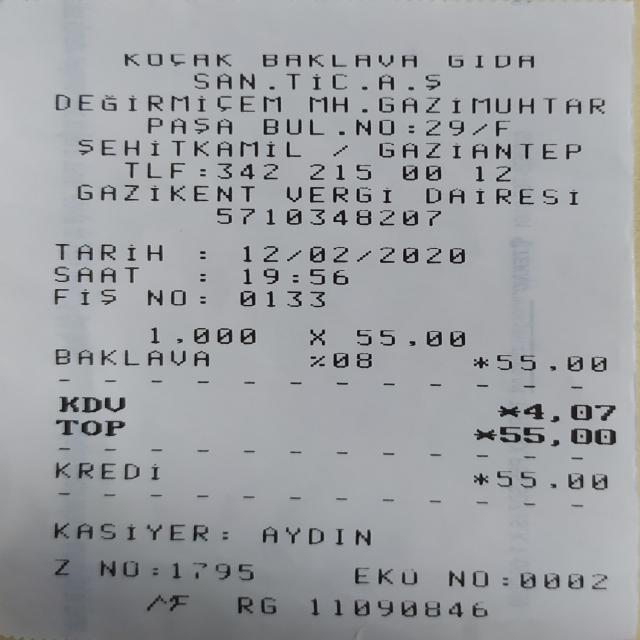text: (55, 91, 280, 116), (244, 242, 464, 267), (78, 136, 300, 160), (193, 70, 440, 90), (217, 206, 439, 227), (379, 139, 580, 162), (304, 93, 470, 117), (309, 597, 488, 619), (55, 346, 208, 369), (54, 520, 208, 542), (466, 94, 605, 118), (262, 50, 416, 70), (424, 183, 556, 206), (263, 520, 369, 548), (264, 116, 394, 136), (496, 351, 604, 375), (55, 240, 162, 264), (500, 424, 614, 446), (242, 264, 346, 288), (150, 323, 254, 347), (356, 326, 464, 349), (150, 180, 253, 204), (172, 556, 251, 586), (287, 182, 389, 205), (56, 459, 158, 481), (497, 470, 606, 489), (125, 50, 230, 69), (240, 287, 324, 310), (524, 401, 614, 422), (55, 263, 136, 286), (147, 115, 232, 135), (519, 571, 607, 590), (448, 51, 533, 70), (354, 564, 416, 588), (54, 285, 114, 308), (77, 180, 138, 202), (56, 417, 123, 436), (309, 161, 370, 181), (217, 160, 276, 180), (125, 160, 184, 179), (56, 396, 125, 412), (100, 554, 137, 582), (234, 595, 280, 617), (145, 592, 189, 613), (447, 568, 487, 589), (148, 286, 185, 308), (425, 117, 463, 136), (331, 352, 372, 368), (476, 163, 508, 182), (497, 401, 519, 422), (473, 425, 495, 445), (306, 328, 327, 345), (54, 556, 71, 576), (306, 353, 328, 367), (333, 138, 346, 160), (472, 470, 487, 488), (472, 118, 485, 136), (495, 118, 508, 136), (471, 356, 489, 368), (407, 117, 414, 136), (196, 294, 208, 304), (199, 242, 204, 264), (221, 526, 227, 544), (501, 574, 508, 589), (199, 160, 204, 180), (200, 264, 204, 286), (152, 565, 158, 578)
